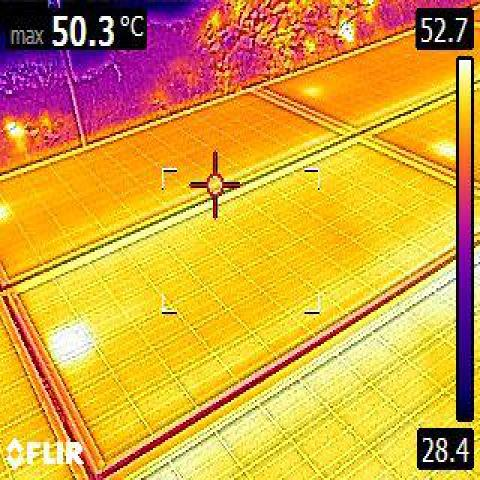fault: (48, 322, 88, 358)
